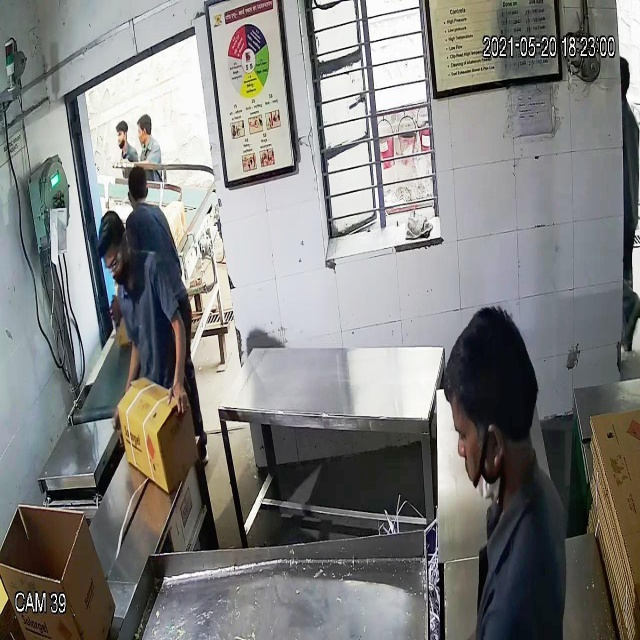Gafas: (99, 252, 128, 283)
